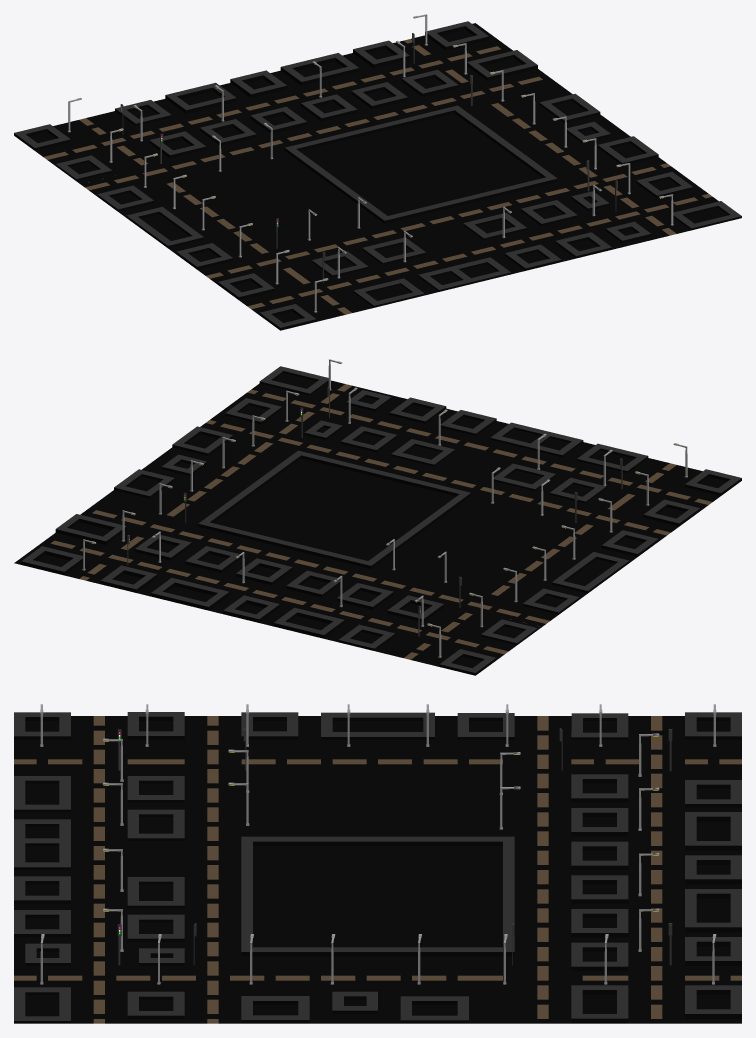
File: map.fbx
3 views of the same model, one above another, from view 1: azimuth 30°, elevation 25°; view 2: azimuth 150°, elevation 25°; view 3: azimuth 270°, elevation 25° (orthographic). The views are drawn at different scales.
Visible parts, largest first — view 1: Ground-col; view 2: Ground-col; view 3: Ground-col.
Part boxes in pixels (left/top/right/bottom): Ground-col: left=14, top=21, right=741, bottom=330; Ground-col: left=14, top=366, right=741, bottom=675; Ground-col: left=14, top=712, right=741, bottom=1023.
Size of the model in its own units: 2539 by 162 by 2539.
